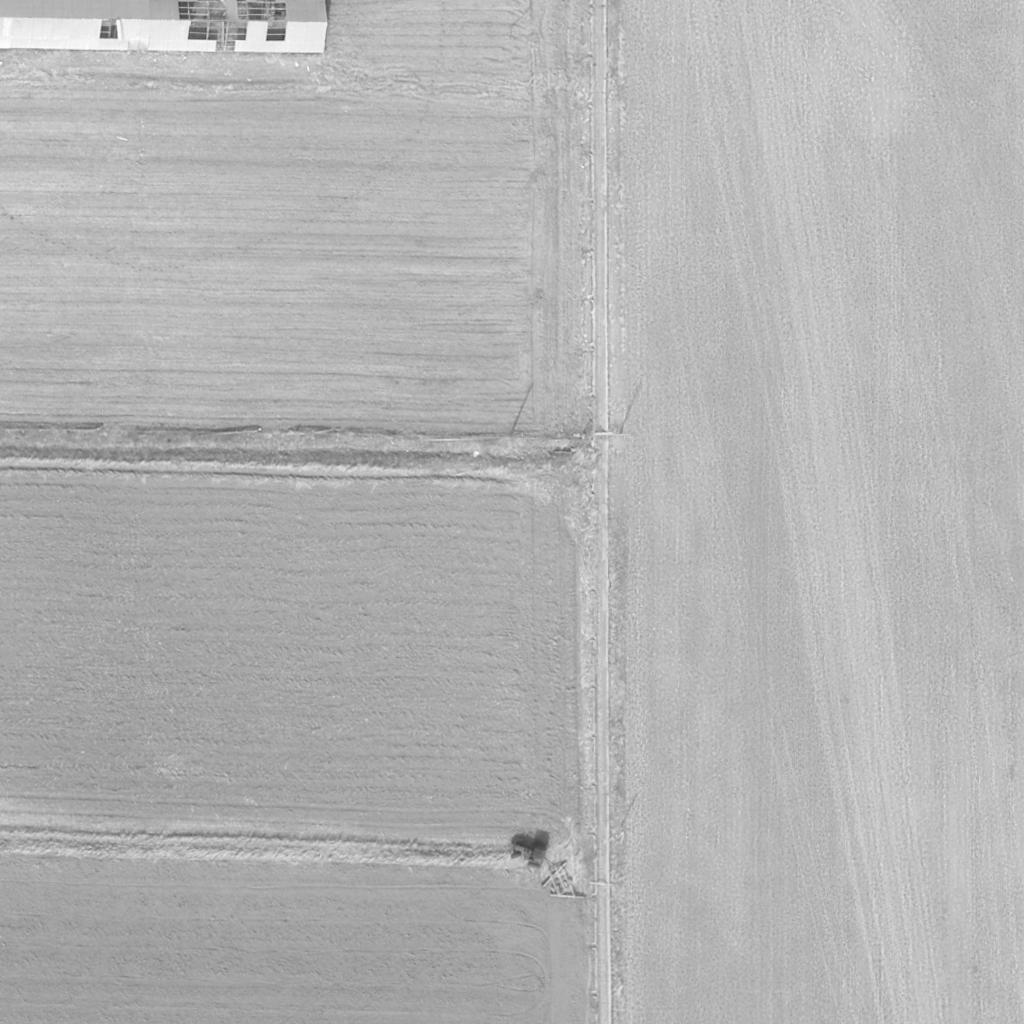vehicle: (505, 834, 549, 870)
